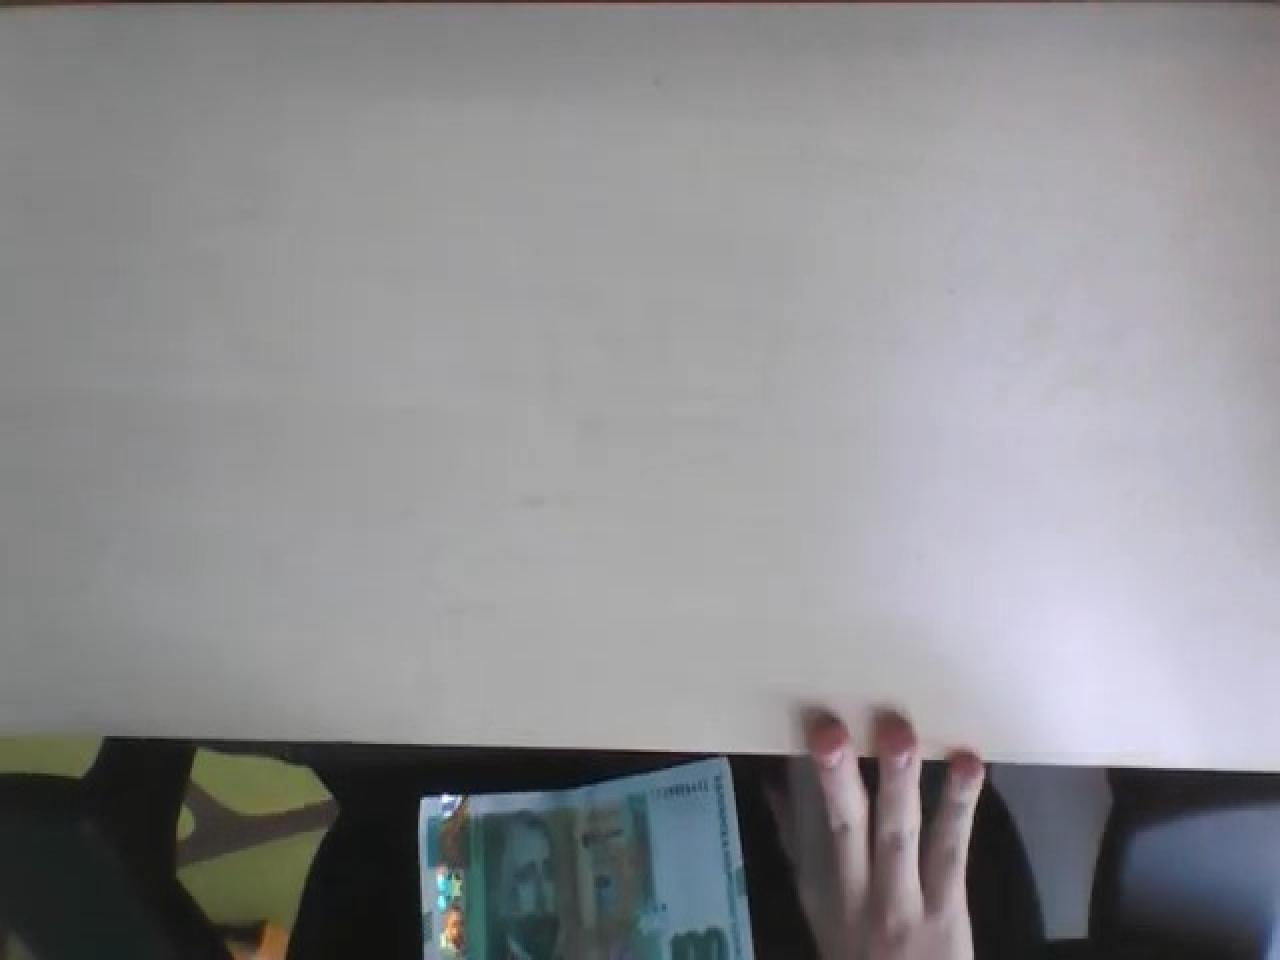100leva: (416, 757, 758, 960)
